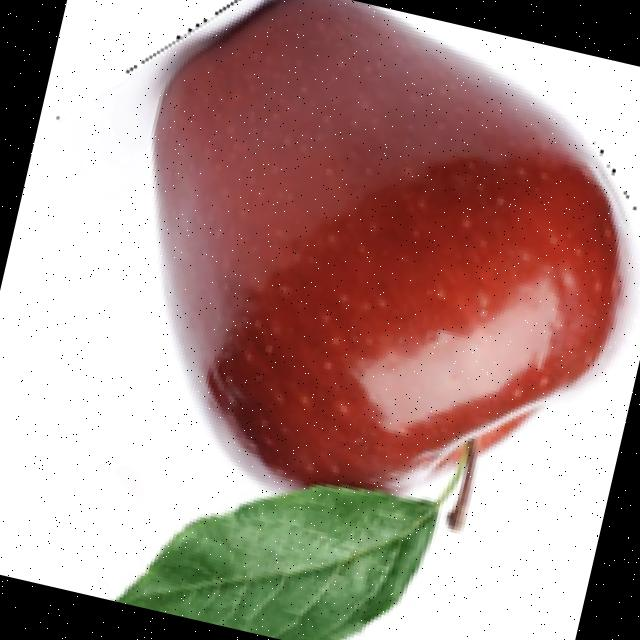apple: (108, 0, 640, 640)
